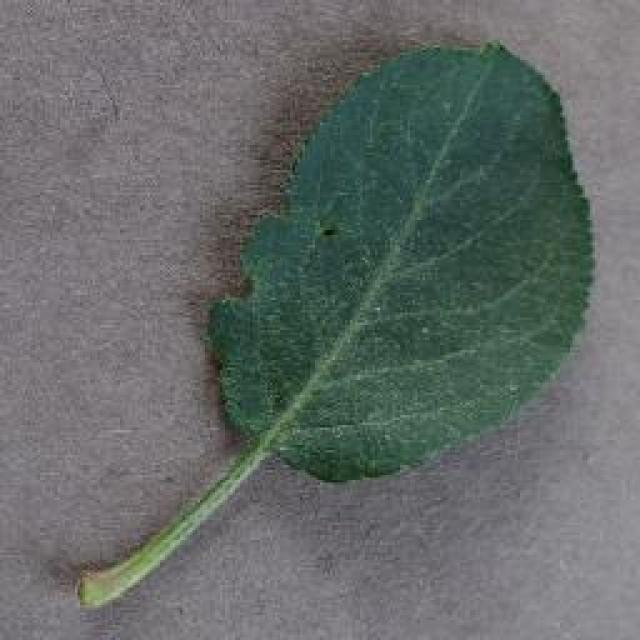apple healthy: (75, 35, 597, 610)
